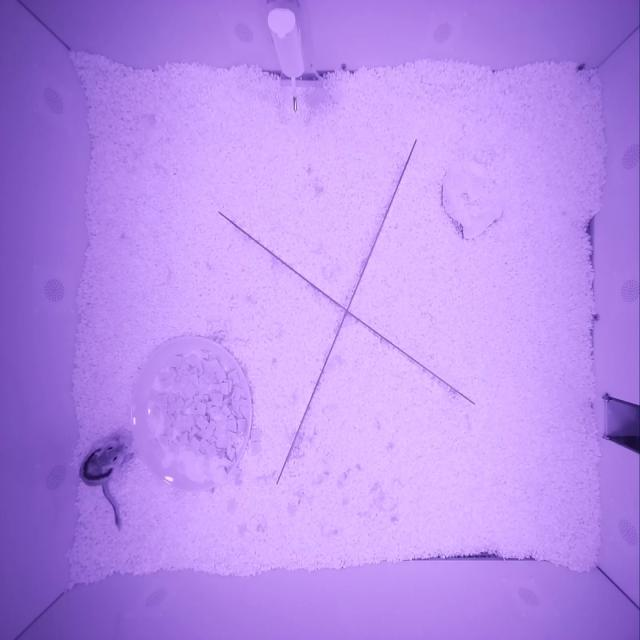adult_front: (79, 440, 127, 486)
